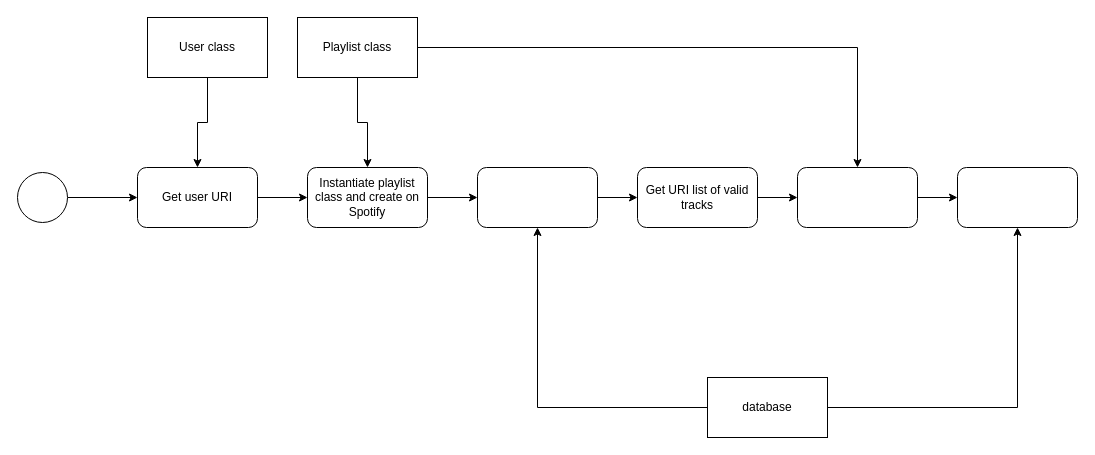
This 1095x455 diagram has some shape labels left out. The shapes that lost their labels are listed below. From the top down, each one's centre as x and y in pixels, then its label:
the point at 537,197: Create playlist table in database
the point at 857,197: Enter URI list onto Spotify
the point at 1017,197: Add track names and URIs to database
